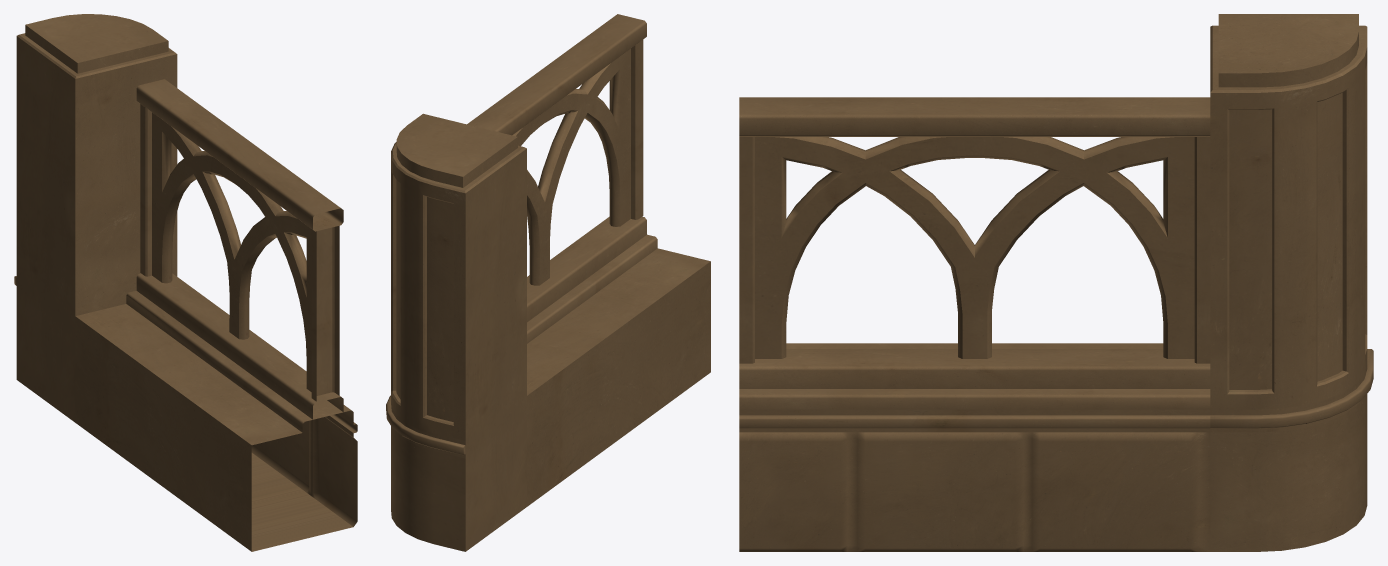
Rendered from SM_Building01RailingS_LR.fbx.
The picture shows the model from 3 angles, left to right: view 1: azimuth 30°, elevation 25°; view 2: azimuth 150°, elevation 25°; view 3: azimuth 270°, elevation 25°; orthographic projection. The views are drawn at different scales.
Visible parts, largest first — view 1: SM_Building01RailingS_LR_LOD0; view 2: SM_Building01RailingS_LR_LOD0; view 3: SM_Building01RailingS_LR_LOD0.
Part boxes in pixels (<box>): SM_Building01RailingS_LR_LOD0: <box>14,14,357,551</box>; SM_Building01RailingS_LR_LOD0: <box>386,14,710,551</box>; SM_Building01RailingS_LR_LOD0: <box>739,14,1373,551</box>.
Size of the model in its own units: 52 by 202 by 167.
Materials: 3 (3 with a texture image).
